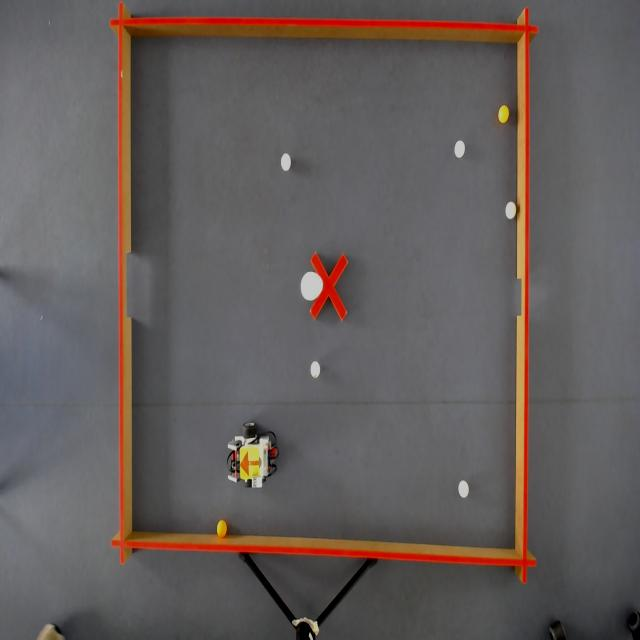cross: (309, 251, 350, 322)
egg: (299, 269, 325, 304)
orange_ball: (216, 517, 228, 539), (498, 104, 510, 124)
robot: (240, 444, 263, 481)
white_ball: (453, 138, 467, 161), (457, 478, 470, 501), (505, 199, 517, 222), (280, 152, 292, 174), (309, 358, 321, 379)
